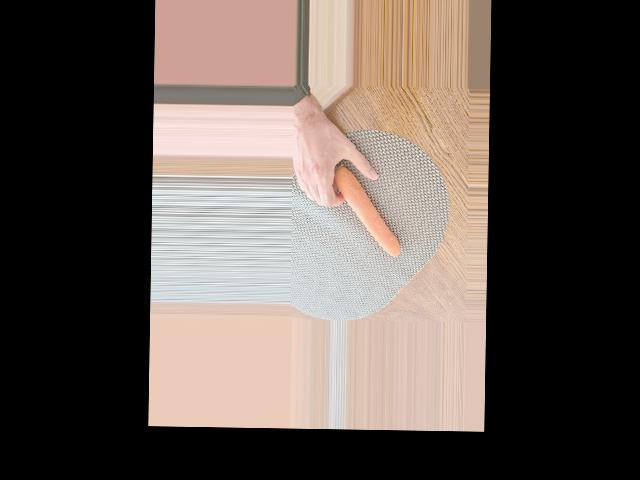carrot: (335, 167, 402, 254)
